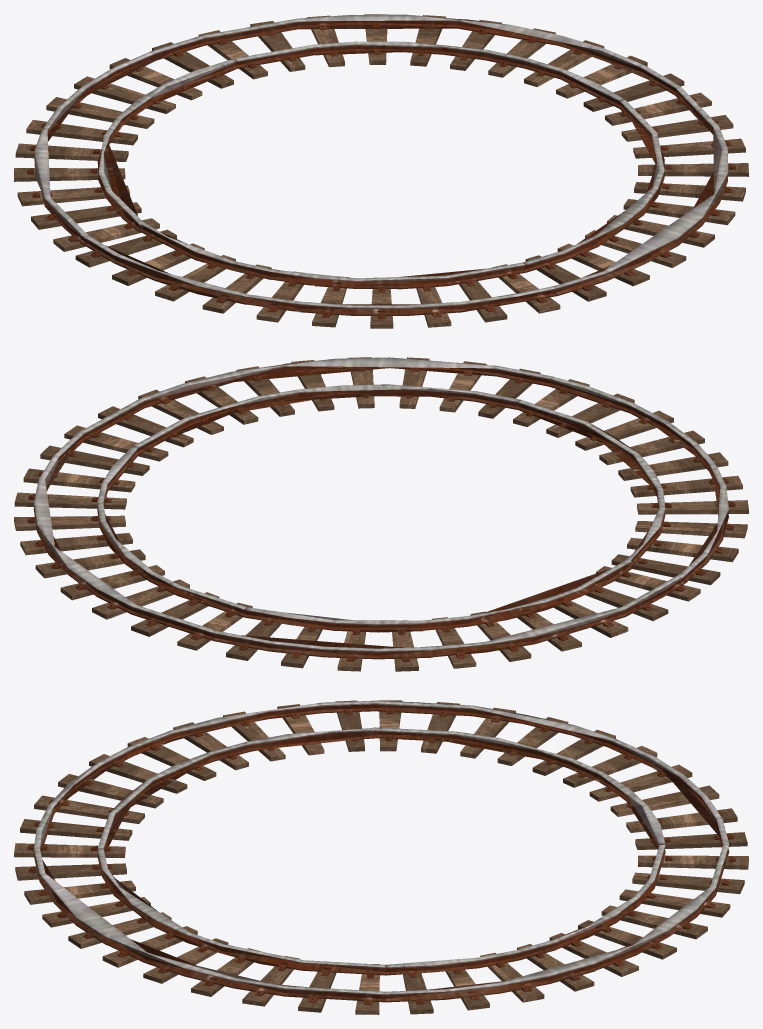
File: Train_tracks.glb
3 renders of one model, top to bottom at view 1: azimuth 30°, elevation 25°; view 2: azimuth 150°, elevation 25°; view 3: azimuth 270°, elevation 25°, orthographic.
Visible parts, largest first — view 1: 3d66-Editable_mesh-20753422-007, 3d66-Editable_mesh-20753422-008; view 2: 3d66-Editable_mesh-20753422-007, 3d66-Editable_mesh-20753422-008; view 3: 3d66-Editable_mesh-20753422-007, 3d66-Editable_mesh-20753422-008.
Boxes of the visible parts, bbox=[...] form: 3d66-Editable_mesh-20753422-007: bbox=[26, 14, 735, 319]; 3d66-Editable_mesh-20753422-008: bbox=[14, 14, 748, 328]; 3d66-Editable_mesh-20753422-007: bbox=[27, 357, 735, 661]; 3d66-Editable_mesh-20753422-008: bbox=[14, 357, 748, 671]; 3d66-Editable_mesh-20753422-007: bbox=[27, 700, 735, 1005]; 3d66-Editable_mesh-20753422-008: bbox=[14, 700, 748, 1014].
Bounding box in the file's own units: 0.8379 × 0.0164 × 0.838.
Materials: 2 (2 with a texture image).
